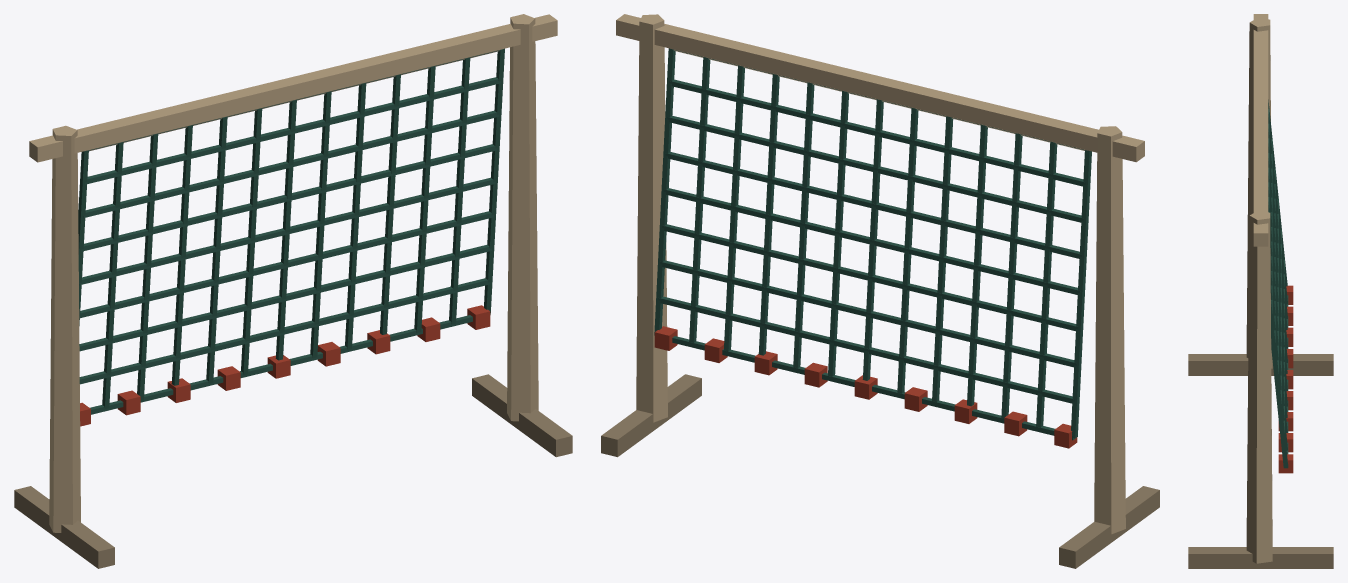
The model's file is net_rack_pine.glb.
The picture shows the model from 3 angles, left to right: view 1: azimuth 30°, elevation 25°; view 2: azimuth 150°, elevation 25°; view 3: azimuth 270°, elevation 25°; orthographic projection. The views are drawn at different scales.
Visible parts, largest first — view 1: pine_d10, driftwood_d10, driftwood_d30, coal_d10, driftwood_l20; view 2: pine_d10, driftwood_d10, driftwood_d30, coal_d10, driftwood_l20; view 3: driftwood_d10, driftwood_d30, pine_d10, coal_d10.
Boxes of the visible parts, left/top/right/bottom form: pine_d10: left=78, top=48, right=504, bottom=414; driftwood_d10: left=29, top=14, right=557, bottom=532; driftwood_d30: left=14, top=374, right=572, bottom=568; coal_d10: left=80, top=305, right=490, bottom=426; driftwood_l20: left=87, top=49, right=501, bottom=151; pine_d10: left=654, top=48, right=1091, bottom=440; driftwood_d10: left=616, top=14, right=1144, bottom=534; driftwood_d30: left=601, top=374, right=1159, bottom=568; coal_d10: left=654, top=326, right=1077, bottom=448; driftwood_l20: left=673, top=49, right=1084, bottom=150; driftwood_d10: left=1246, top=14, right=1272, bottom=563; driftwood_d30: left=1188, top=354, right=1333, bottom=568; pine_d10: left=1268, top=99, right=1288, bottom=468; coal_d10: left=1278, top=285, right=1293, bottom=473.
Bounding box in the file's own units: 2.5 × 1.86 × 0.7.
